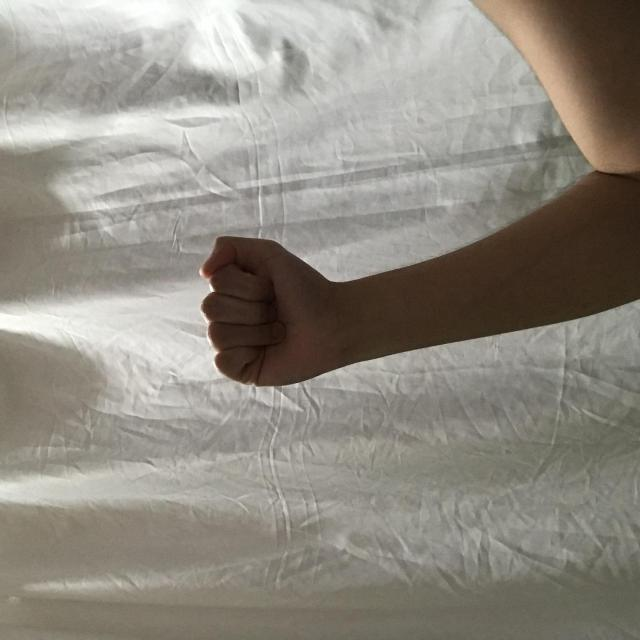A: (250, 198, 403, 332)
